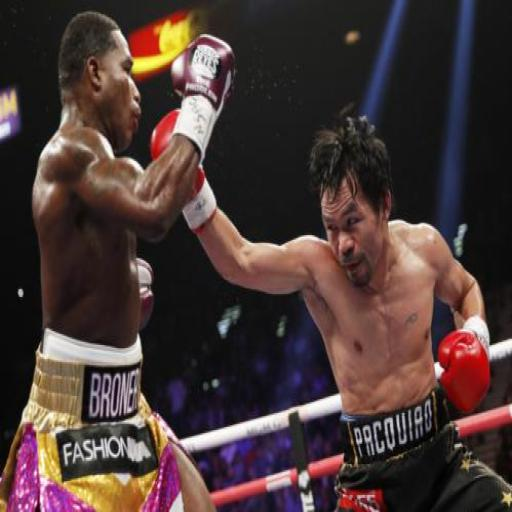boxing: (148, 32, 511, 510)
